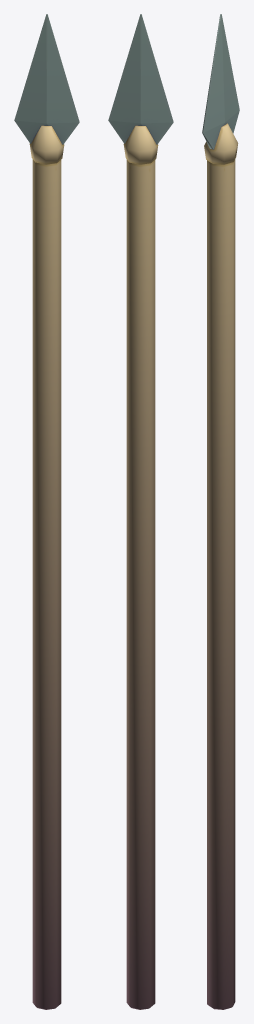
File: Spear.fbx
3 renders of one model, left to right at view 1: azimuth 30°, elevation 25°; view 2: azimuth 210°, elevation 25°; view 3: azimuth 270°, elevation 25°, orthographic.
Parts seen in each view (by area): view 1: Spear.011; view 2: Spear.011; view 3: Spear.011.
Boxes of the visible parts, <box> form: Spear.011: <box>14,14,79,1009</box>; Spear.011: <box>108,14,173,1009</box>; Spear.011: <box>202,14,239,1009</box>.
Bounding box in the file's own units: 8.03 × 11.66 × 233.
2 materials, 2 textured.
